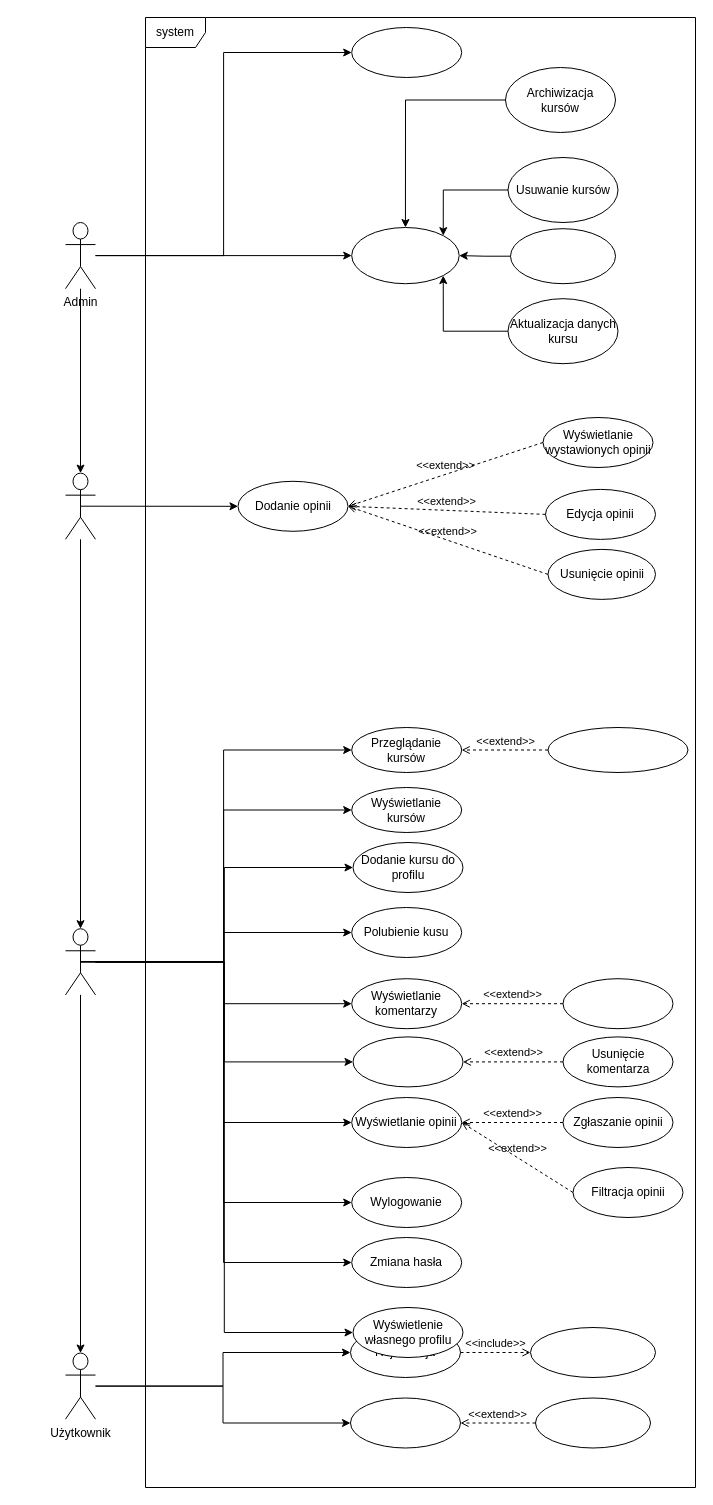
Image size: 713x1505. Some labels were removed from this diagram. Each missing label, with the box of its shape:
Dodawanie kursów: (510, 228, 616, 284)
Logowanie: (350, 1397, 460, 1448)
Przeglądanie pojedyńczego kursu: (547, 726, 688, 772)
Przypomnij hasło: (534, 1397, 650, 1448)
Usuwanie komentarzy: (351, 26, 462, 78)
Utworzenie komentarza: (352, 1036, 463, 1087)
Weryfikacja Mail'owa: (530, 1326, 656, 1378)
Zalogowany użytkownik: (64, 928, 96, 995)
Zarządzenie kursami: (351, 226, 459, 284)
Zgłaszanie komentarzy: (562, 978, 673, 1029)
Zweryfikowany student: (64, 472, 96, 539)
